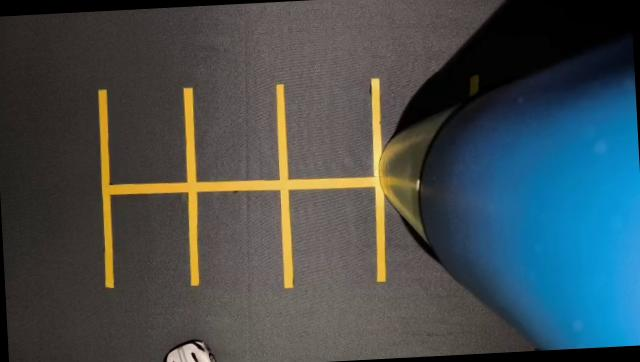toy_car: (153, 320, 224, 362)
